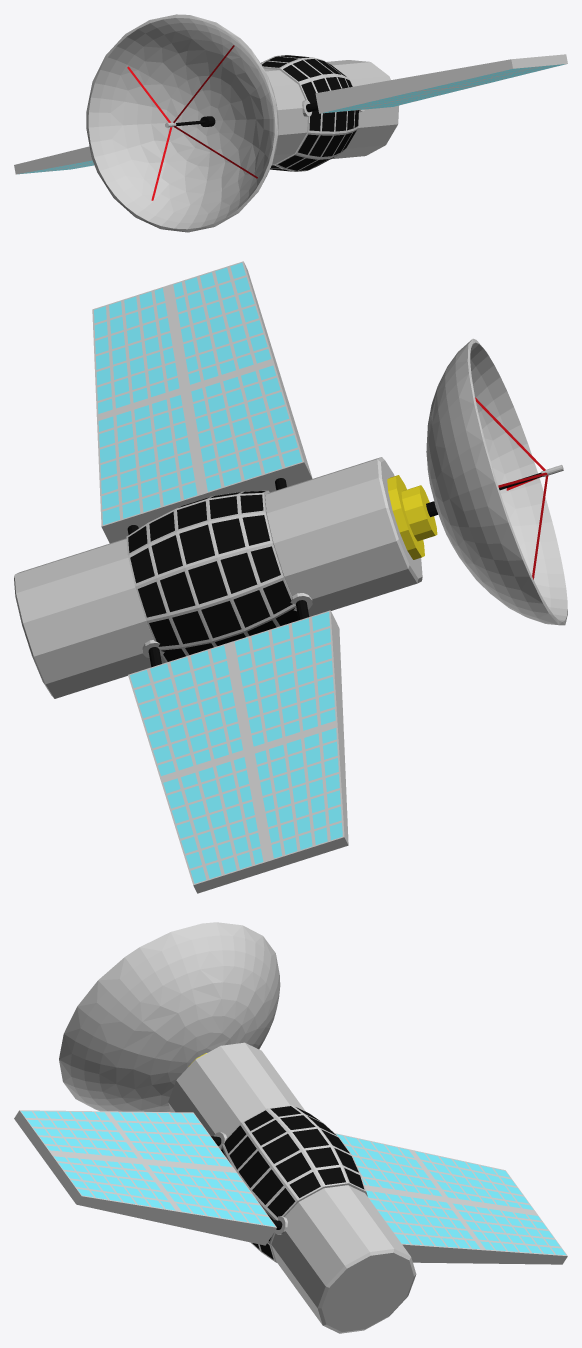
File: Satelite.obj
3 views of the same model, one above another, from view 1: azimuth 30°, elevation 25°; view 2: azimuth 150°, elevation 25°; view 3: azimuth 270°, elevation 25° (orthographic). The views are drawn at different scales.
Parts seen in each view (by area): view 1: Sphere001; view 2: Sphere001; view 3: Sphere001.
Part boxes in pixels (x1,y1,x2,y2): Sphere001: (14,14,567,232); Sphere001: (14,261,567,893); Sphere001: (14,922,567,1333).
Size of the model in its own units: 7.48 by 4.99 by 7.83.
